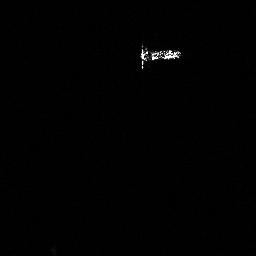ship: (137, 43, 185, 70)
